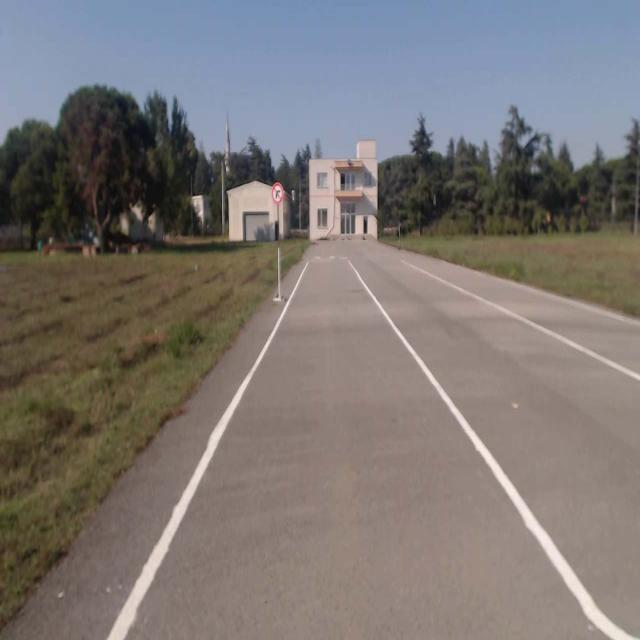sagadonulmez: (272, 181, 282, 203)
